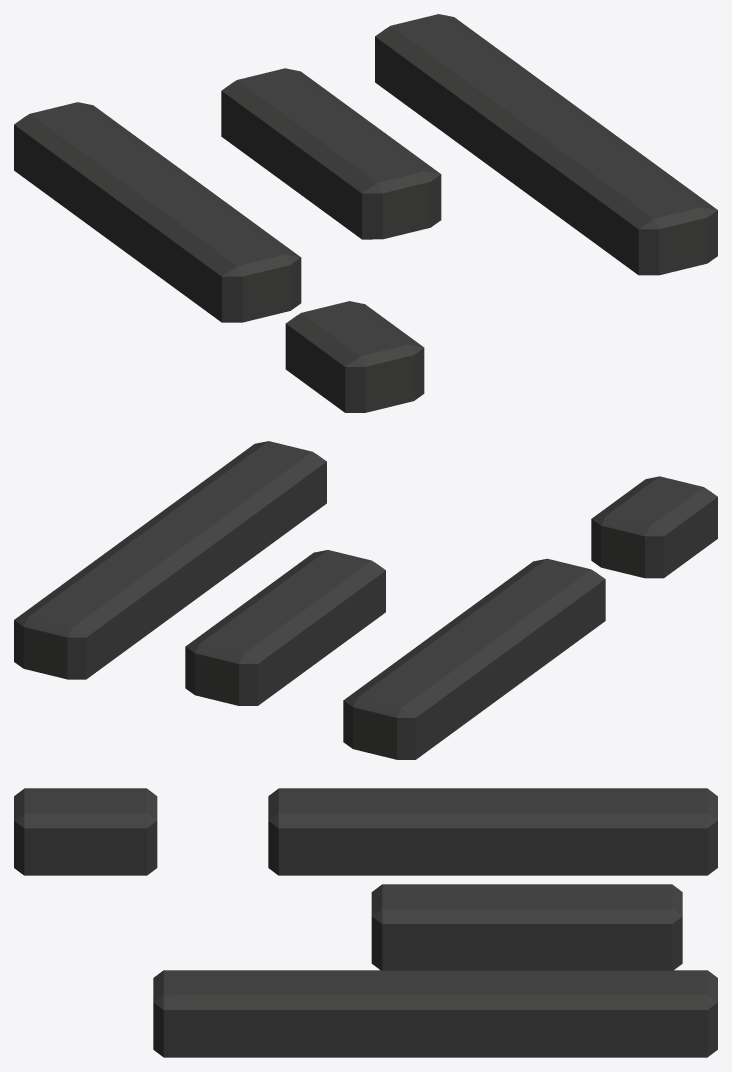
File: Signs_2_1.obj
3 renders of one model, top to bottom at view 1: azimuth 30°, elevation 25°; view 2: azimuth 150°, elevation 25°; view 3: azimuth 270°, elevation 25°, orthographic. The views are drawn at different scales.
Visible parts, largest first — view 1: Signs_2_1; view 2: Signs_2_1; view 3: Signs_2_1.
Part boxes in pixels (x1=…): Signs_2_1: x1=14, y1=14, x2=717, y2=412; Signs_2_1: x1=14, y1=441, x2=717, y2=759; Signs_2_1: x1=14, y1=788, x2=717, y2=1057.
Size of the model in its own units: 0.2888 by 0.0331 by 0.3877.
